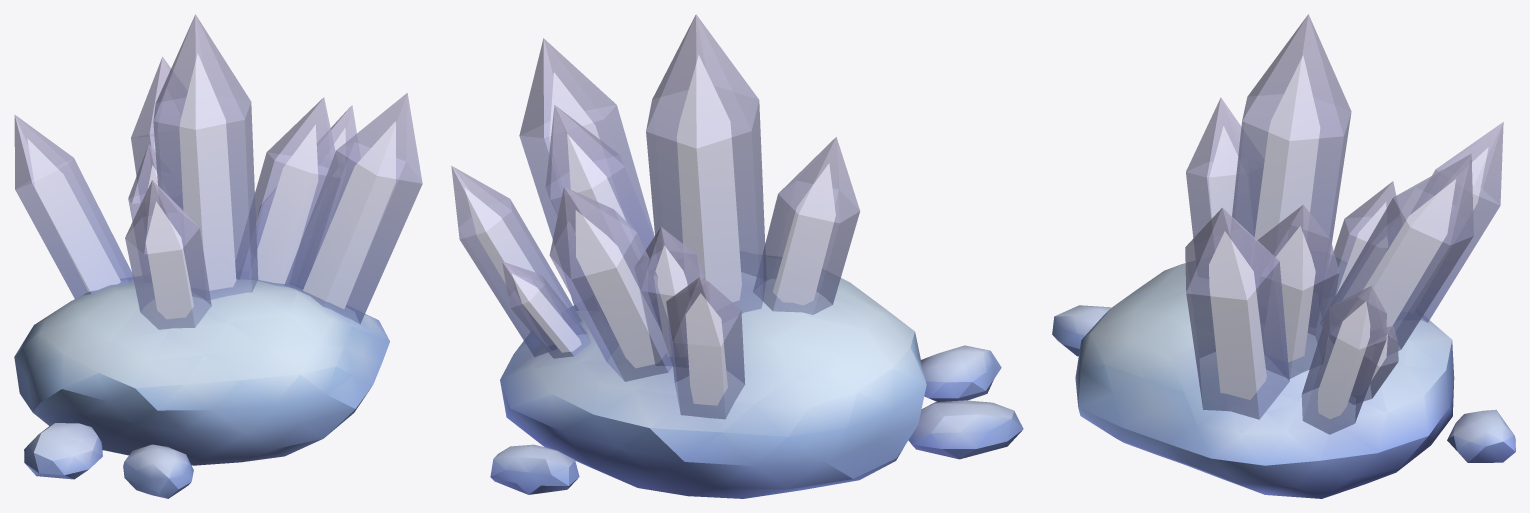
The model's file is glass_crystal_cluster_a.glb.
3 renders of one model, left to right at view 1: azimuth 30°, elevation 25°; view 2: azimuth 150°, elevation 25°; view 3: azimuth 270°, elevation 25°, orthographic. The views are drawn at different scales.
Visible parts, largest first — view 1: glass_crystal_cluster_a; view 2: glass_crystal_cluster_a; view 3: glass_crystal_cluster_a.
Boxes of the visible parts, left/top/right/bottom form: glass_crystal_cluster_a: left=14, top=14, right=422, bottom=498; glass_crystal_cluster_a: left=451, top=14, right=1023, bottom=498; glass_crystal_cluster_a: left=1052, top=14, right=1515, bottom=498.
Bounding box in the file's own units: 3 × 2.62 × 2.69.
